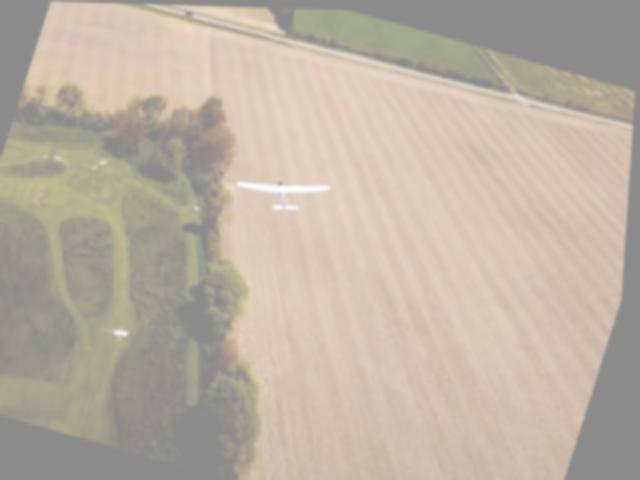iha: (231, 157, 335, 223)
